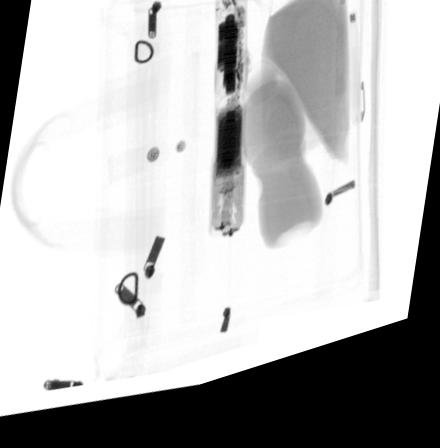Baton: (206, 0, 249, 253)
